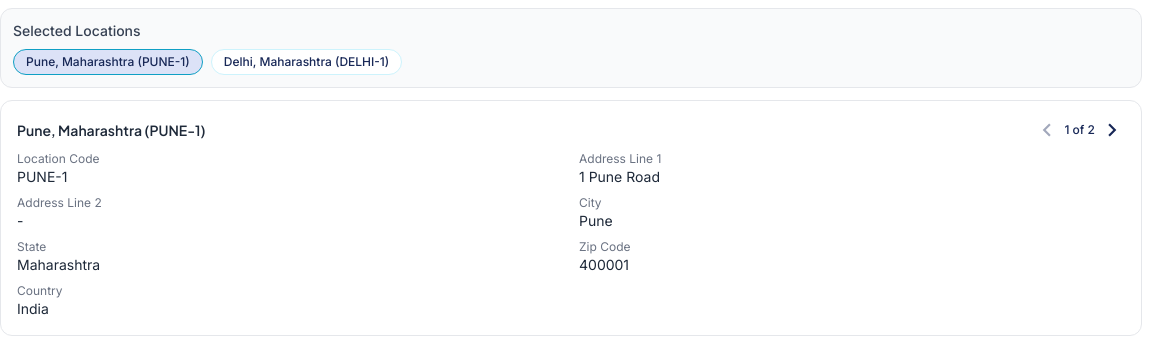
it: SelectedLocations › steps through the locations with the arrows
The width and height of the screenshot is (1152, 353).
Expected: the button named "Previous location" is disabled, [1034,117,1060,143]
Click the button named "Next location" at (1112, 130), box [1099,117,1125,143]
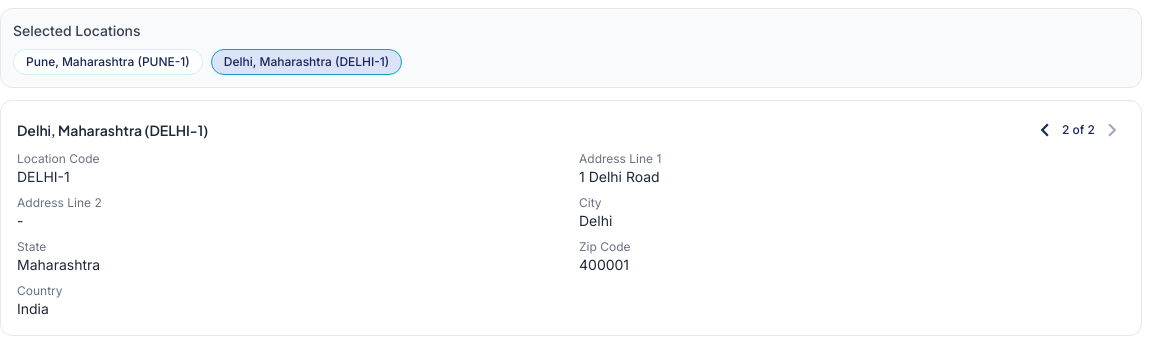
Now the element "Delhi" is shown
Now the text "1 Delhi Road" is shown, box [579,168,660,185]
Now the button named "Next location" is disabled, box [1099,117,1125,143]
Click the button named "Previous location" at (1045, 130), box [1032,117,1058,143]
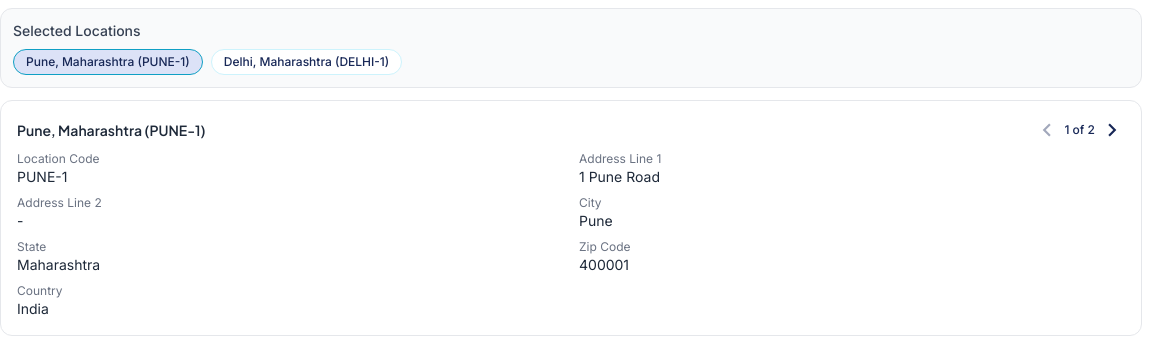
Now the element "Pune" is shown
